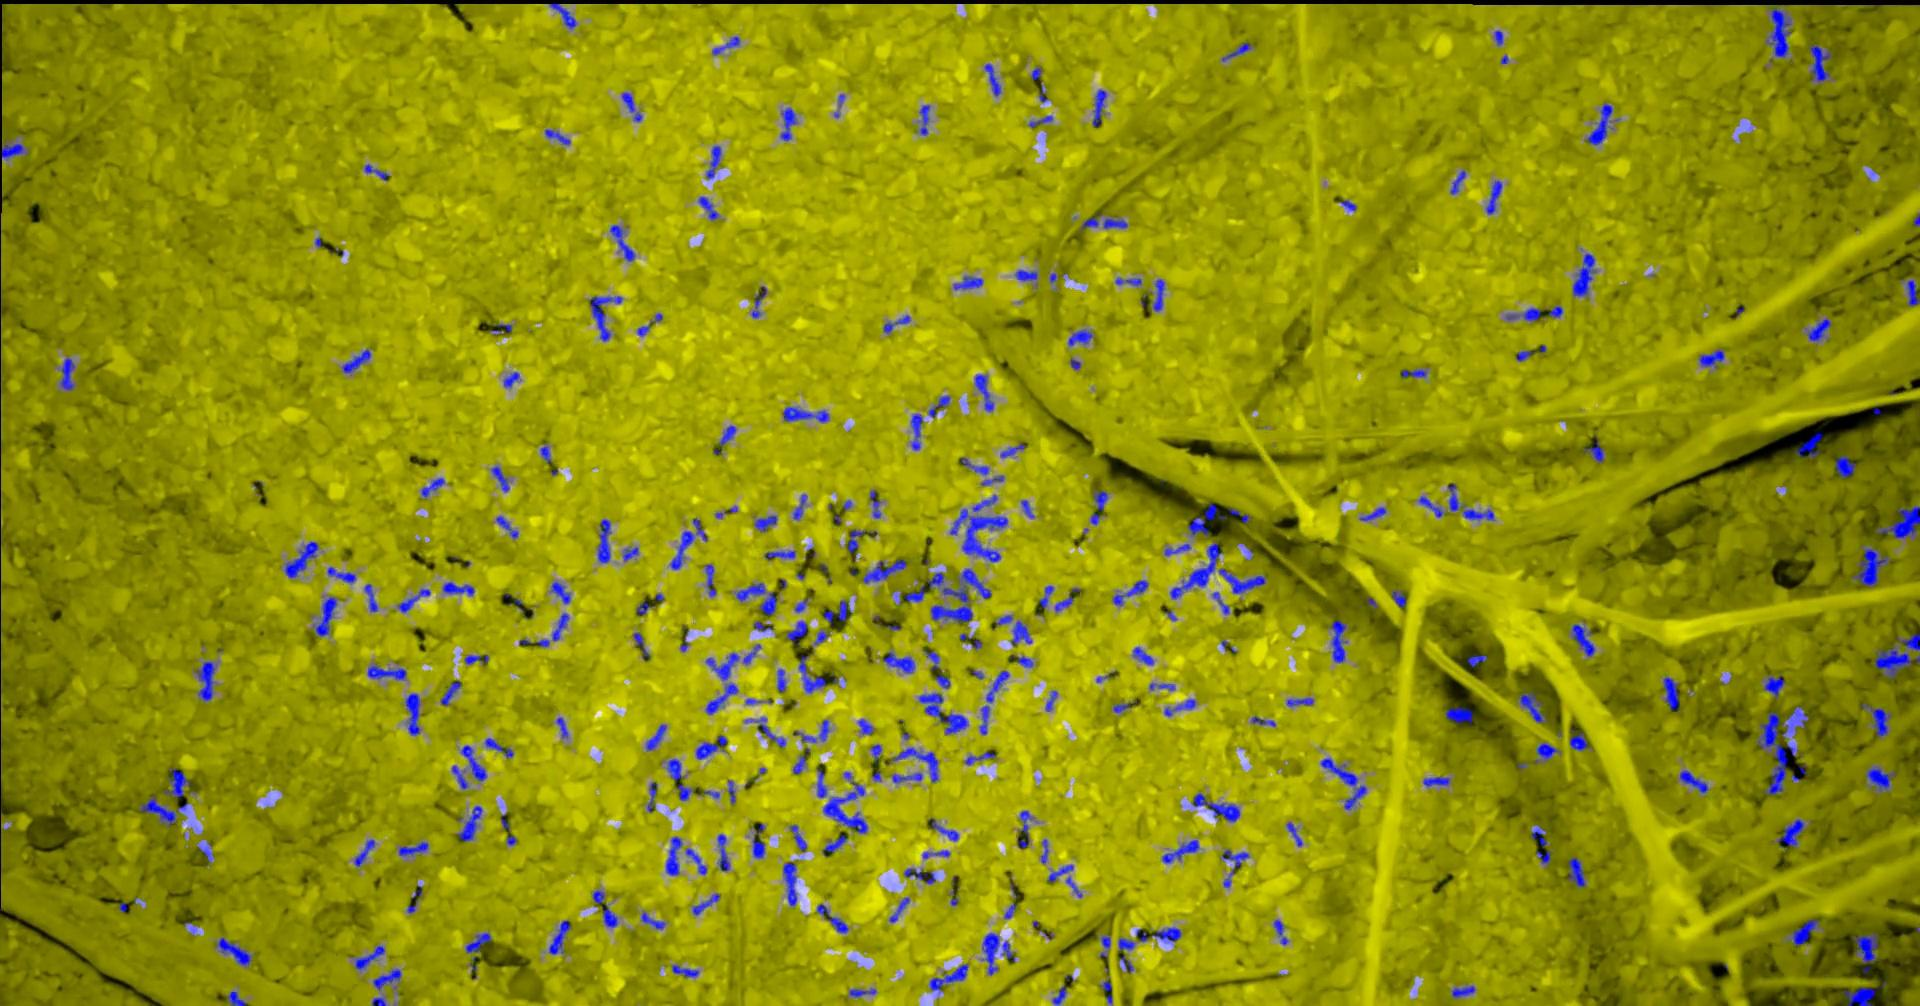ant: (1170, 542, 1265, 598), (930, 568, 990, 622), (822, 771, 867, 833), (1321, 757, 1366, 809), (1874, 633, 1919, 678), (918, 694, 968, 734), (979, 669, 1008, 734), (669, 518, 706, 569), (1448, 483, 1493, 520), (891, 747, 937, 781), (589, 295, 622, 340), (1851, 547, 1890, 586), (1876, 506, 1919, 539), (982, 932, 1015, 974), (1192, 793, 1239, 821), (1766, 4, 1790, 57), (1187, 503, 1225, 536), (904, 572, 943, 602), (745, 716, 785, 747), (284, 541, 317, 577), (665, 758, 693, 800), (138, 795, 177, 826), (535, 614, 568, 647), (996, 614, 1031, 644), (1586, 102, 1611, 144), (1222, 848, 1250, 887), (862, 559, 905, 583), (1851, 932, 1877, 973), (797, 655, 825, 692), (215, 937, 251, 965), (1572, 253, 1595, 296), (705, 683, 737, 714), (930, 964, 968, 989), (610, 224, 635, 260), (705, 652, 738, 680), (1862, 702, 1890, 735), (460, 746, 486, 780), (456, 805, 481, 841), (847, 528, 877, 558), (817, 903, 847, 932), (315, 596, 337, 636), (1808, 43, 1831, 81), (1517, 692, 1547, 721), (1161, 840, 1197, 862), (1112, 580, 1147, 605), (792, 719, 828, 742), (1777, 818, 1803, 848), (397, 588, 430, 612), (695, 735, 728, 760), (163, 767, 189, 796), (1330, 619, 1347, 662), (1571, 622, 1594, 655), (196, 661, 215, 700), (549, 920, 570, 954), (974, 373, 993, 412), (1796, 431, 1822, 457), (549, 3, 577, 28), (342, 348, 370, 373), (1865, 766, 1895, 790), (354, 945, 383, 969), (1843, 986, 1879, 1005), (782, 406, 828, 422), (1792, 920, 1818, 945), (1079, 217, 1128, 231), (883, 652, 914, 672), (822, 600, 850, 622), (1679, 770, 1707, 793), (1090, 489, 1107, 525), (1135, 927, 1180, 941), (372, 968, 400, 989), (665, 836, 681, 875), (621, 91, 641, 121), (484, 737, 513, 757), (405, 694, 419, 735), (782, 862, 796, 904), (931, 818, 957, 840), (353, 840, 375, 866), (692, 893, 719, 915), (1222, 41, 1250, 61), (1163, 699, 1195, 716), (637, 312, 662, 335), (1806, 318, 1830, 340), (785, 621, 808, 645), (367, 666, 406, 680), (1418, 495, 1444, 517), (684, 848, 706, 874), (780, 107, 796, 140), (705, 145, 721, 178), (1484, 180, 1501, 213), (1582, 436, 1603, 462), (645, 724, 665, 751), (711, 36, 739, 55), (597, 520, 610, 561), (737, 582, 764, 601), (984, 64, 1001, 95), (1663, 676, 1679, 710), (495, 514, 517, 539), (439, 681, 461, 705), (1567, 857, 1585, 887), (889, 897, 909, 922), (1091, 89, 1105, 126), (1017, 810, 1031, 847), (58, 357, 74, 390), (500, 812, 516, 845), (1505, 307, 1540, 321), (883, 315, 910, 333), (1834, 455, 1855, 478), (823, 835, 847, 855), (750, 286, 766, 318), (490, 466, 509, 492), (903, 868, 935, 883), (465, 932, 490, 951), (959, 457, 988, 474), (632, 631, 650, 658), (550, 580, 570, 603), (1764, 676, 1784, 699), (397, 841, 428, 856), (1444, 706, 1472, 723), (1067, 328, 1092, 345), (1699, 349, 1724, 367), (789, 824, 806, 850), (1048, 864, 1073, 882), (640, 911, 665, 929), (442, 580, 474, 594), (792, 747, 809, 774), (928, 395, 949, 417), (698, 196, 717, 218), (752, 823, 764, 857), (0, 141, 24, 159), (364, 163, 389, 180), (328, 567, 356, 582), (717, 833, 729, 870), (952, 276, 982, 290), (910, 413, 922, 448), (422, 478, 444, 495), (1152, 279, 1164, 311), (759, 591, 776, 615), (964, 751, 994, 763), (1131, 647, 1153, 664), (1535, 742, 1557, 760), (1211, 591, 1228, 614), (451, 765, 467, 788), (1450, 170, 1465, 194), (1286, 822, 1302, 846), (602, 903, 617, 927), (1272, 920, 1288, 944), (1570, 729, 1587, 749), (1228, 507, 1250, 523), (754, 514, 776, 531), (543, 130, 569, 144), (792, 494, 806, 520), (364, 583, 377, 611), (670, 964, 698, 977), (959, 633, 982, 648), (717, 426, 735, 445), (1359, 507, 1385, 520), (1001, 443, 1025, 457), (197, 842, 213, 862), (1037, 586, 1053, 607), (1906, 279, 1919, 305), (1164, 542, 1190, 555), (705, 564, 715, 596), (869, 489, 880, 517), (1054, 594, 1073, 611), (743, 644, 759, 663), (919, 104, 930, 135), (891, 772, 922, 782), (1098, 981, 1111, 1005), (503, 371, 521, 387), (923, 650, 938, 669), (1451, 984, 1474, 997), (1051, 984, 1065, 1005), (1465, 654, 1487, 667), (1390, 589, 1406, 607), (1531, 826, 1545, 845), (227, 991, 246, 1005), (1029, 116, 1051, 127), (1010, 655, 1032, 667), (648, 781, 657, 810), (1423, 776, 1449, 786), (817, 768, 825, 796), (1045, 690, 1057, 711), (463, 654, 488, 664), (1251, 716, 1275, 727), (1286, 697, 1313, 706), (848, 988, 875, 997), (1015, 269, 1037, 279), (764, 550, 795, 558), (556, 716, 568, 737), (1401, 368, 1426, 377), (1020, 499, 1032, 517), (982, 475, 1003, 485), (491, 323, 510, 334), (636, 602, 655, 614), (622, 546, 637, 560), (858, 719, 872, 734), (592, 889, 604, 906), (1117, 937, 1134, 950), (1115, 277, 1142, 285), (922, 850, 949, 857), (935, 674, 949, 688), (1149, 682, 1175, 690), (1535, 850, 1550, 862), (540, 446, 551, 462), (753, 621, 771, 631), (1548, 305, 1562, 318), (777, 668, 785, 691), (728, 780, 735, 803), (1040, 840, 1048, 862), (1112, 702, 1129, 713), (871, 744, 881, 761), (814, 631, 827, 644), (1516, 349, 1531, 359), (1030, 67, 1041, 80)
